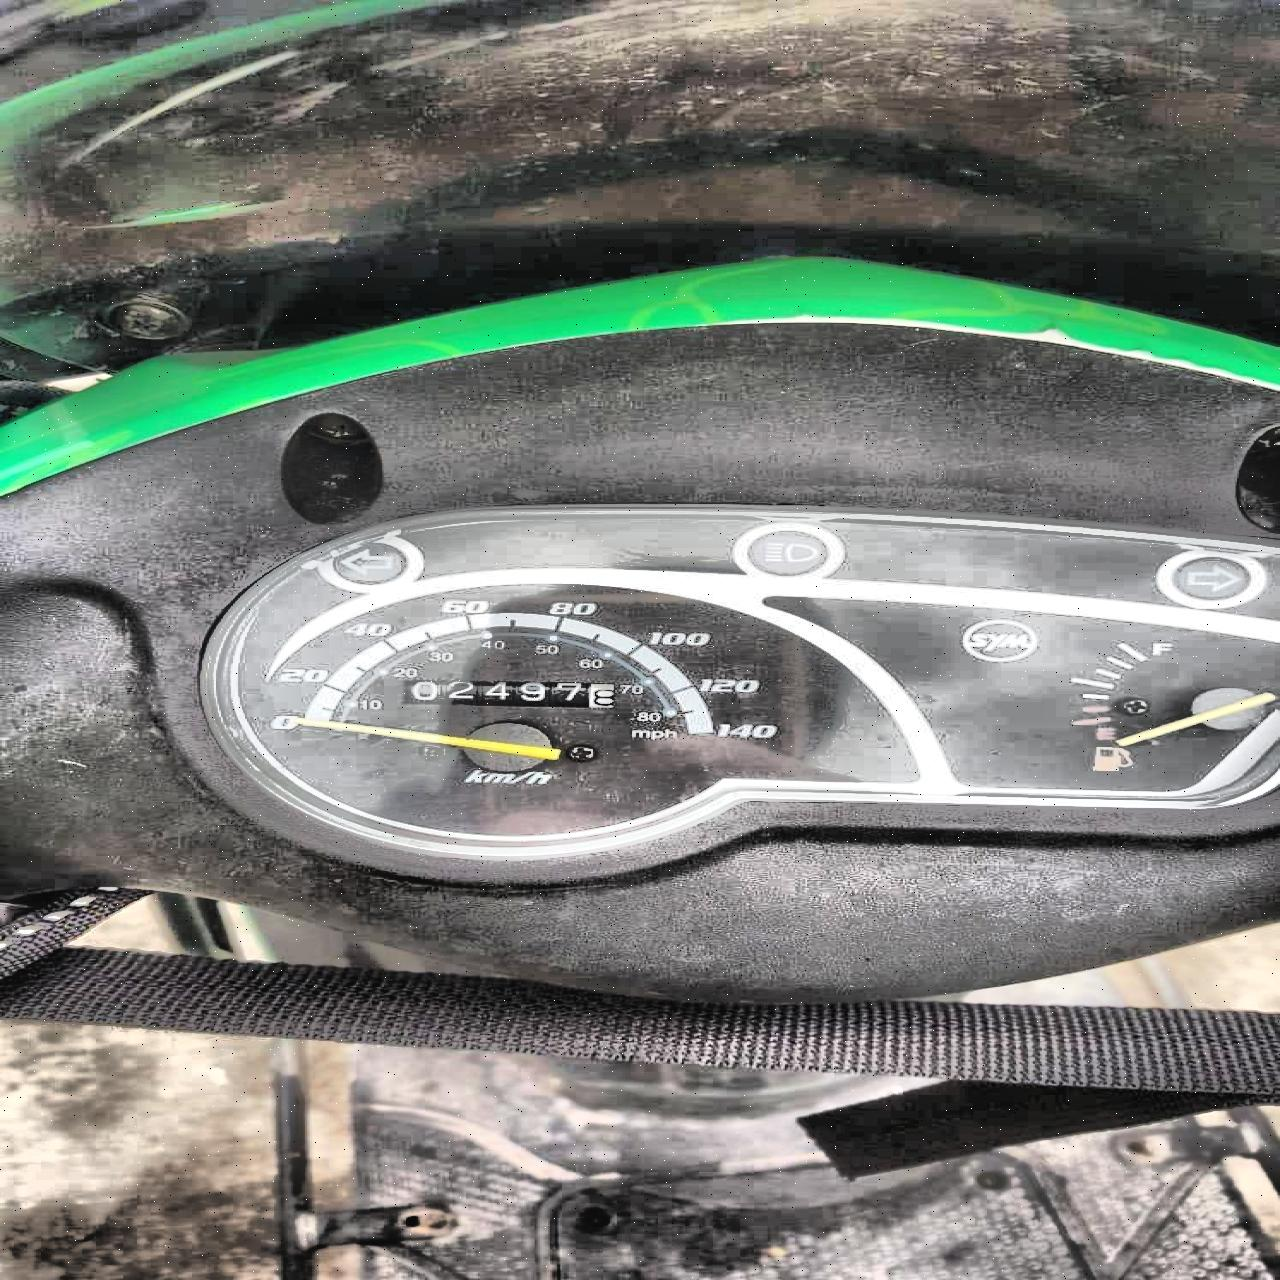0: (411, 680, 435, 701)
2: (444, 678, 474, 700)
4: (483, 680, 509, 701)
7: (553, 681, 580, 701)
8: (591, 686, 615, 708)
9: (517, 681, 545, 702)
odometer: (397, 676, 619, 708)
